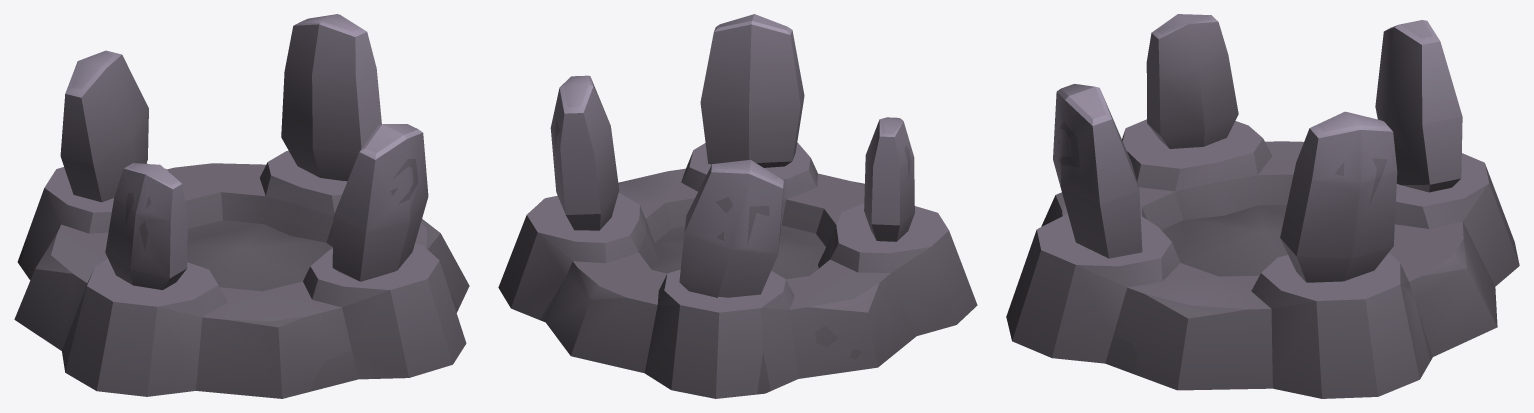
Rendered from graves_group.glb.
The picture shows the model from 3 angles, left to right: view 1: azimuth 30°, elevation 25°; view 2: azimuth 150°, elevation 25°; view 3: azimuth 270°, elevation 25°; orthographic projection. The views are drawn at different scales.
Visible parts, largest first — view 1: graves_group; view 2: graves_group; view 3: graves_group.
Part boxes in pixels (box(x1,y1,x2,y2)): graves_group: box(14, 14, 469, 398); graves_group: box(498, 14, 977, 398); graves_group: box(1006, 14, 1519, 398).
Bounding box in the file's own units: 2.3 × 1.21 × 2.32.
Materials: 1 (1 with a texture image).
